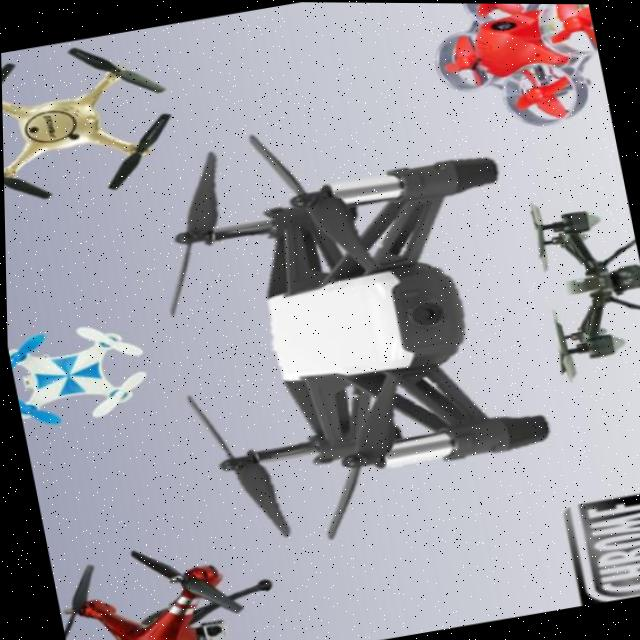drones: (104, 95, 569, 566), (0, 23, 191, 203), (408, 2, 612, 149), (46, 522, 292, 640), (504, 178, 640, 379), (5, 312, 156, 441)
